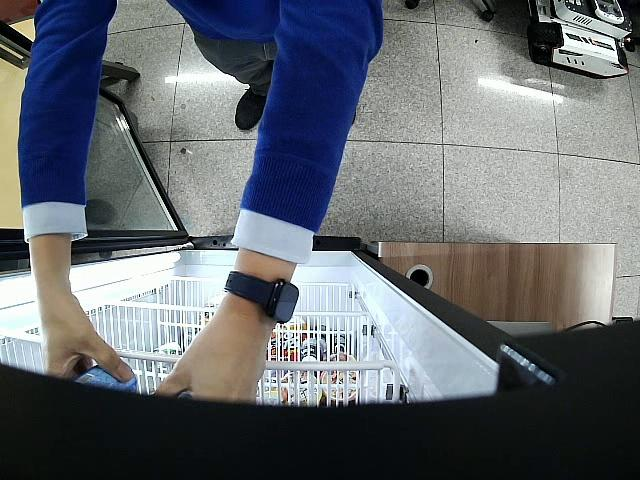00_hand: (156, 315, 272, 404), (32, 292, 134, 381)
